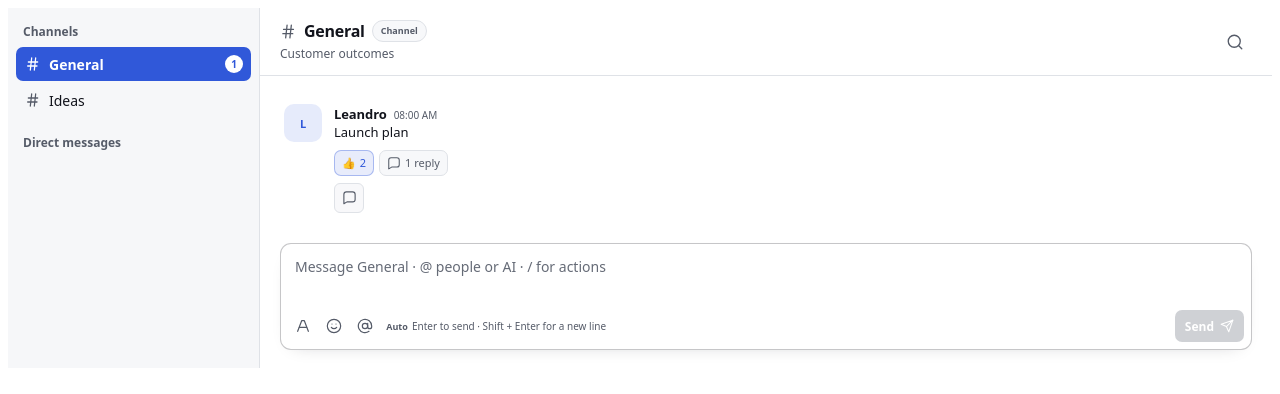
Test: React 18 host compatibility › loads server context before navigating to an archived reply
Click the button named "Search" at (1235, 42), box [1218,24,1252,58]
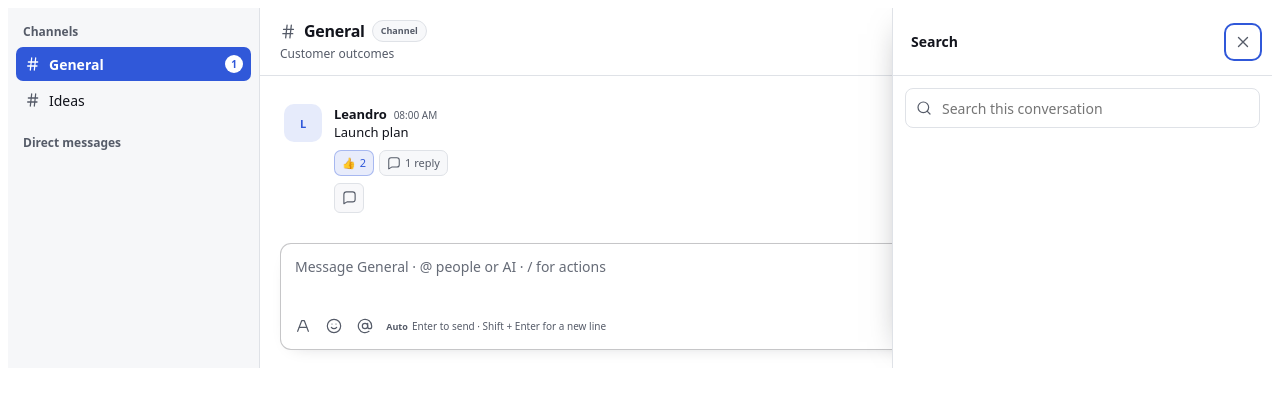
Type "reply evidence" into the search field named "Search messages" at (1094, 108), box [940,89,1249,127]
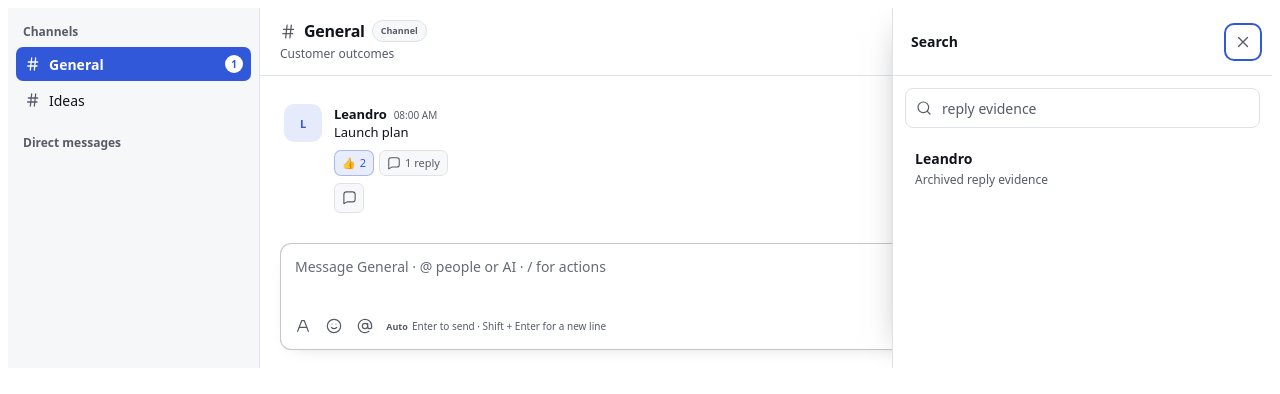
Click the button "Leandro Archived reply evidence" at (944, 158), box [905,140,1260,197]
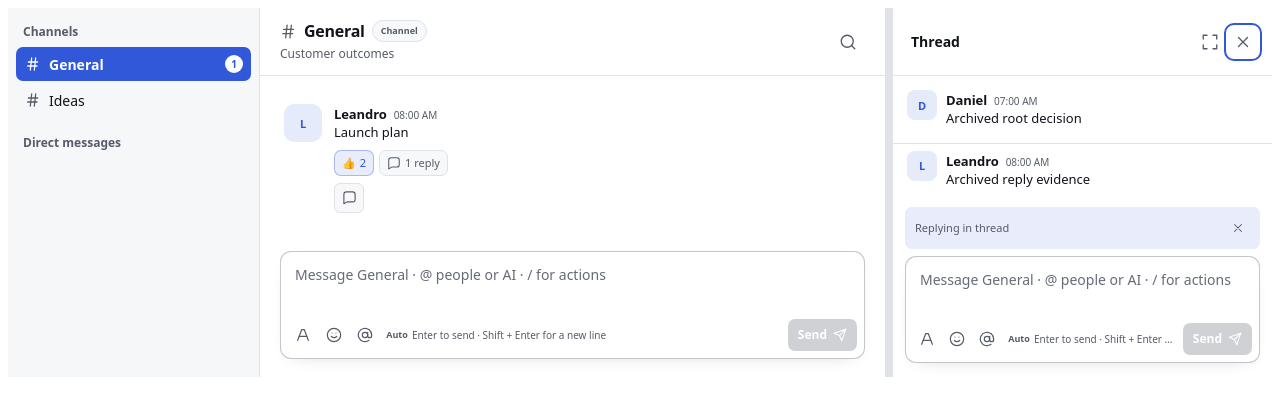
Expected: the text "Archived reply evidence" is shown, [946,170,1090,188]
Expected: the text "Archived root decision" is shown once, [946,109,1082,127]
